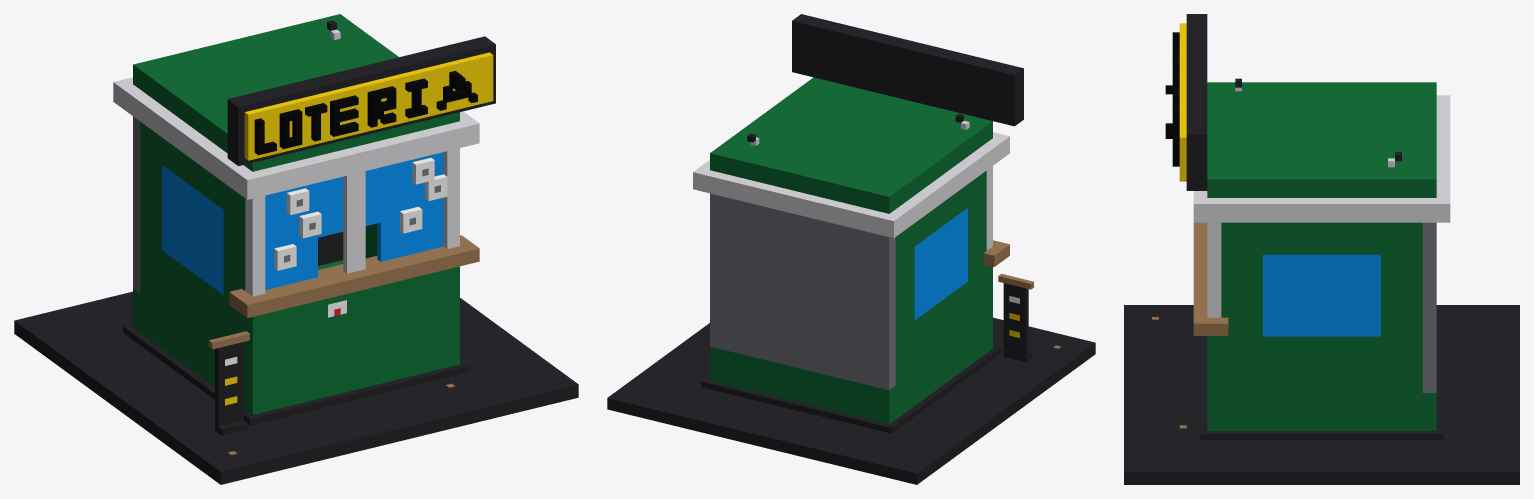
File: puesto_de_loteria.obj
3 views of the same model, side by side, from view 1: azimuth 30°, elevation 25°; view 2: azimuth 150°, elevation 25°; view 3: azimuth 270°, elevation 25° (orthographic). The views are drawn at different scales.
Size of the model in its own units: 5.7 by 5.2 by 5.7.
Materials: 1 (1 with a texture image).
